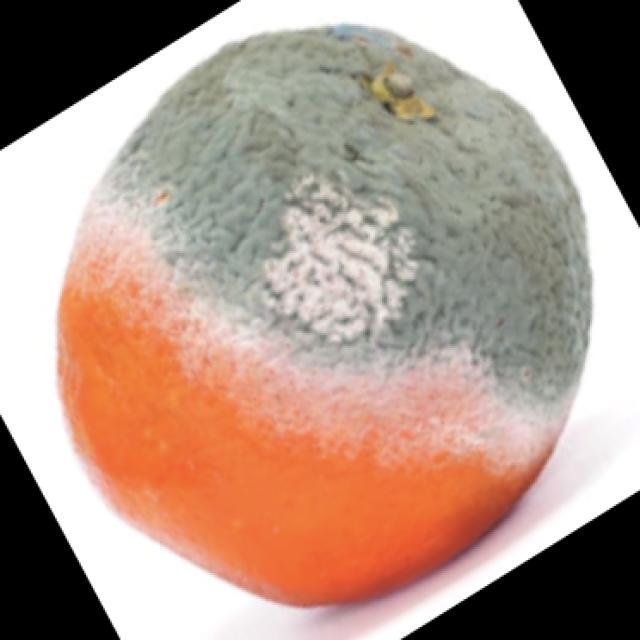sangat-busuk: (59, 27, 591, 604), (98, 29, 591, 422)
